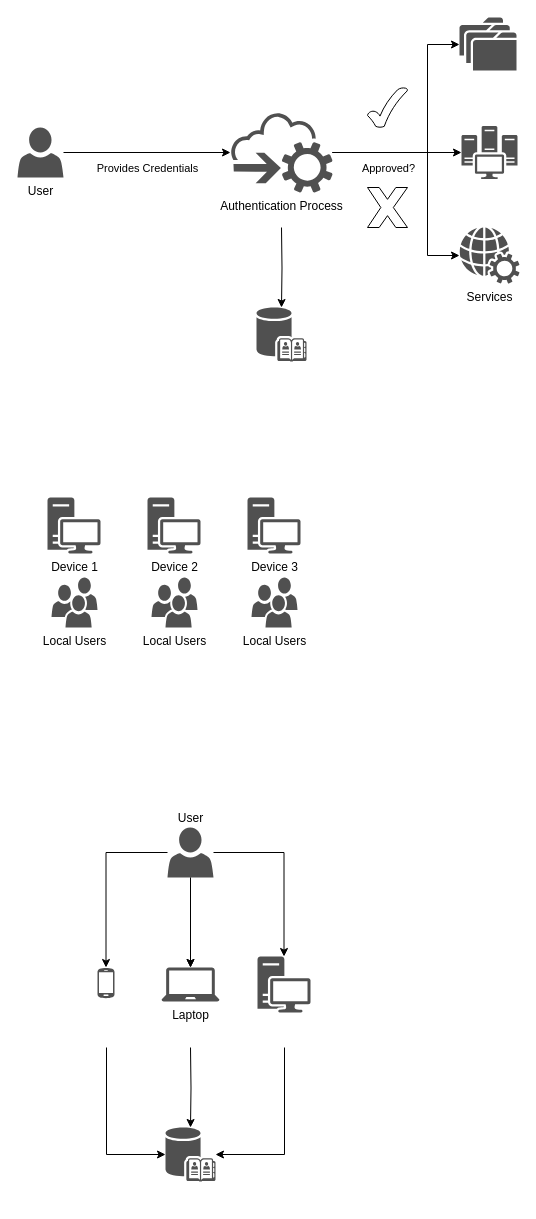
This 536x1219 diagram has some shape labels left out. The shapes that lost their labels are listed below. From the top down, each one's centre as x and y in pixels, then its label:
point 487,43: Files
point 489,152: Devices
point 281,334: User Database
point 105,982: Phone
point 283,984: Workstation
point 190,1154: Database
